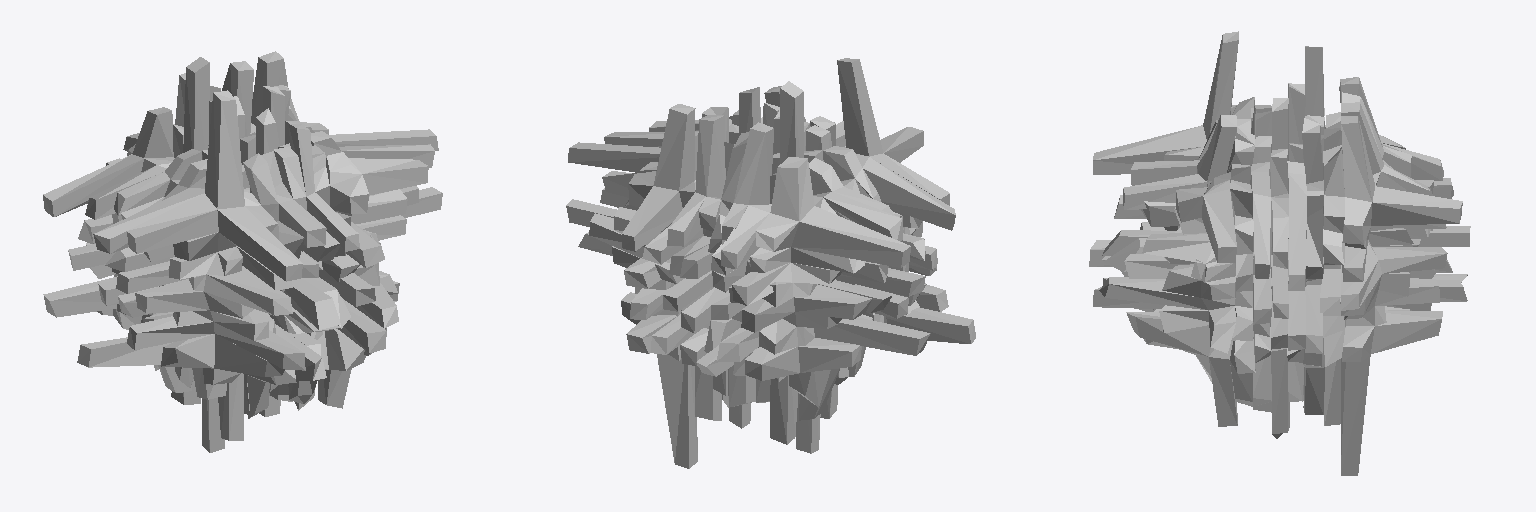
File: ballT.obj
3 views of the same model, side by side, from view 1: azimuth 30°, elevation 25°; view 2: azimuth 150°, elevation 25°; view 3: azimuth 270°, elevation 25° (orthographic).
Size of the model in its own units: 6.52 by 6.32 by 5.63.